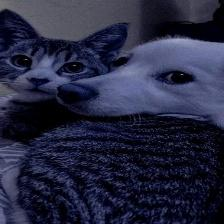kedo: (0, 6, 128, 105)
